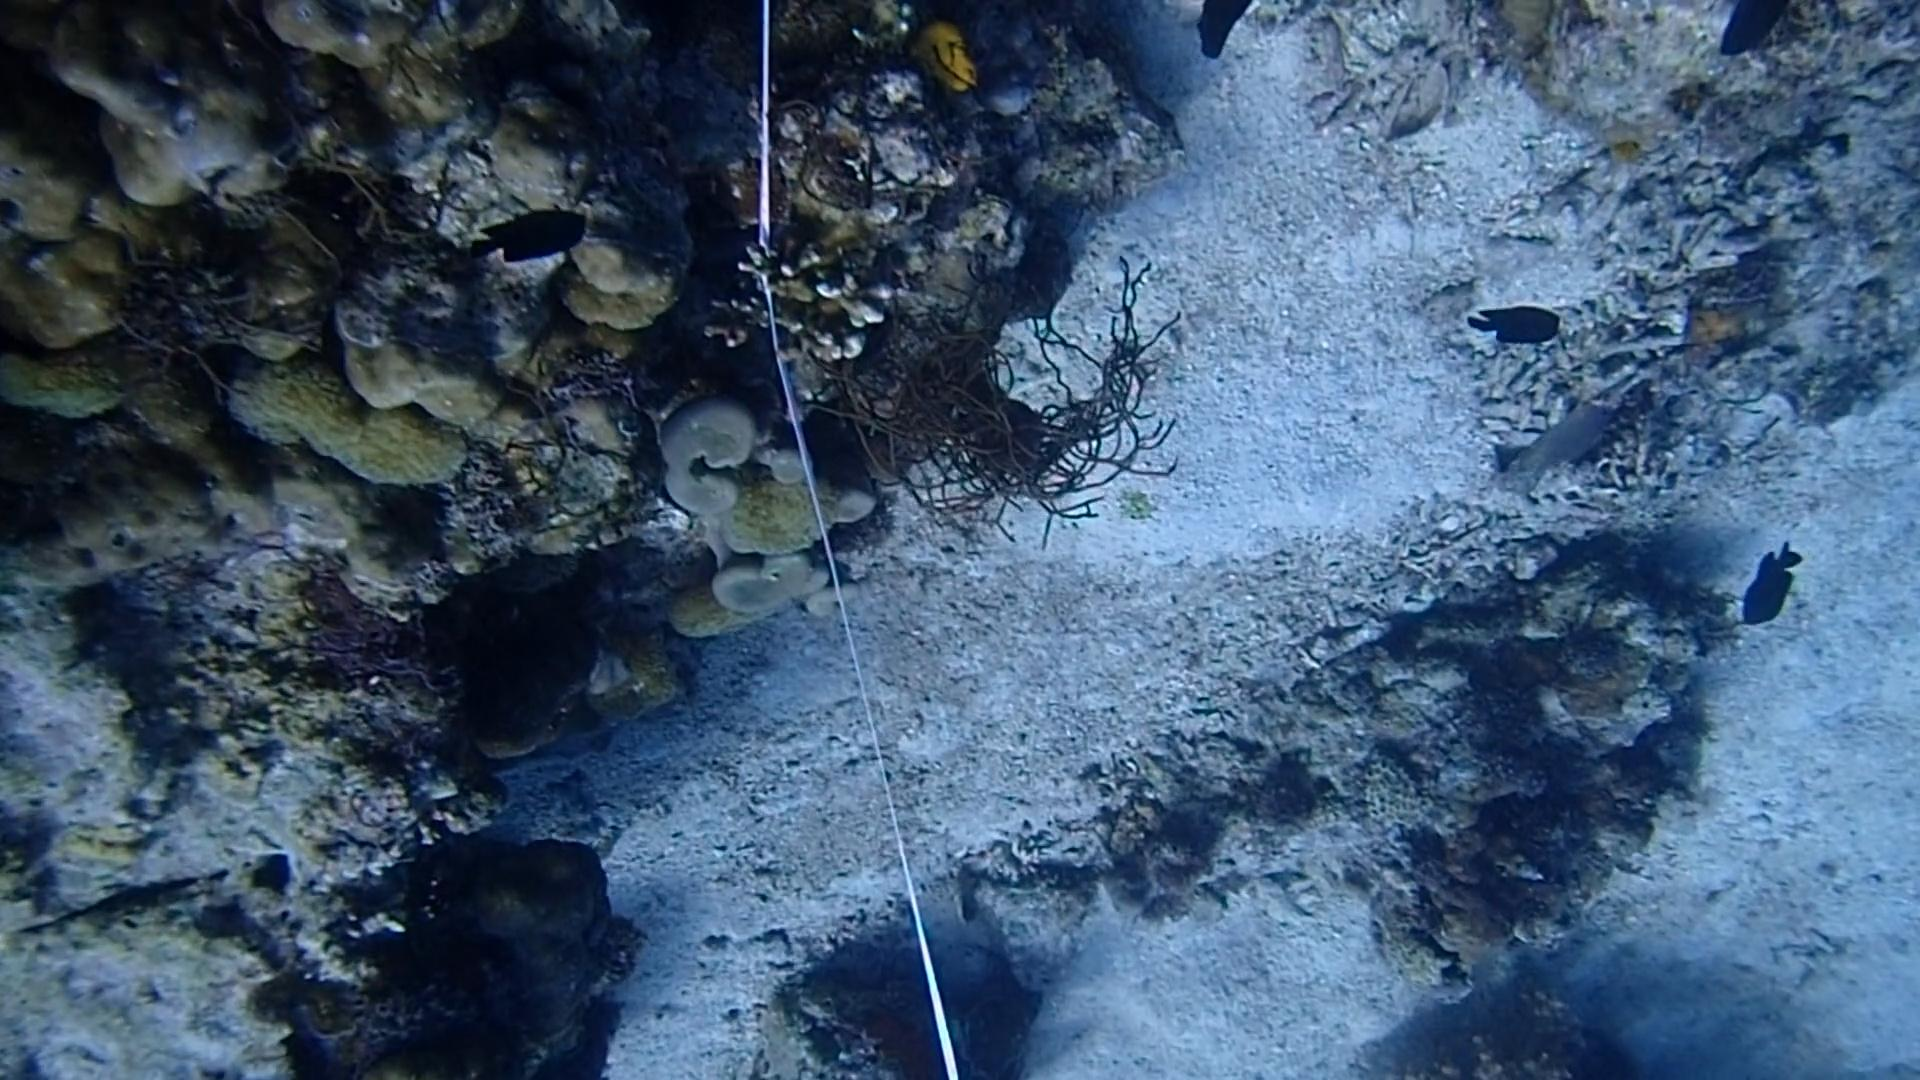Dark Fish: (1735, 534, 1812, 642), (1685, 0, 1793, 71), (1460, 295, 1568, 356), (1183, 0, 1262, 69)
Light Fish: (1509, 394, 1622, 489)
